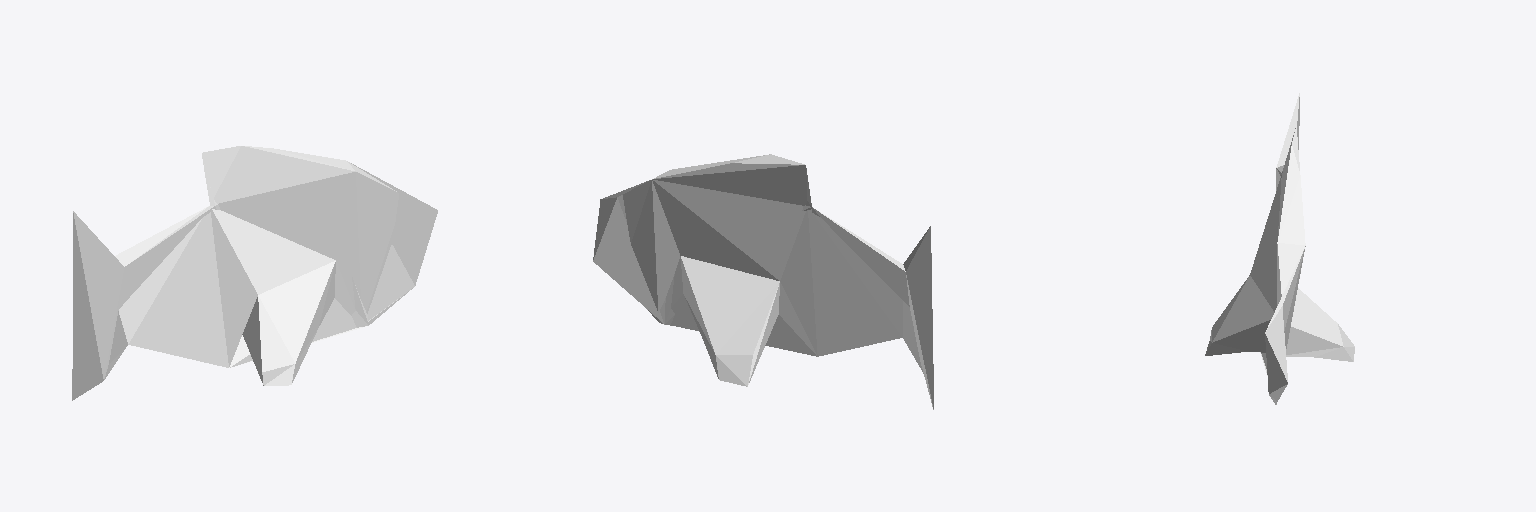
The model's file is fish.obj.
3 renders of one model, left to right at view 1: azimuth 30°, elevation 25°; view 2: azimuth 150°, elevation 25°; view 3: azimuth 270°, elevation 25°, orthographic.
Visible parts, largest first — view 1: fish; view 2: fish; view 3: fish.
Boxes of the visible parts, x1,y1,x2,y2 form: fish: [72, 146, 437, 400]; fish: [593, 154, 933, 409]; fish: [1205, 93, 1354, 404].
Size of the model in its own units: 1.29 by 0.7619 by 0.4787.